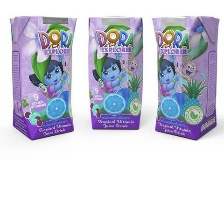carton: (149, 10, 224, 145), (6, 11, 82, 143), (82, 11, 150, 133)
